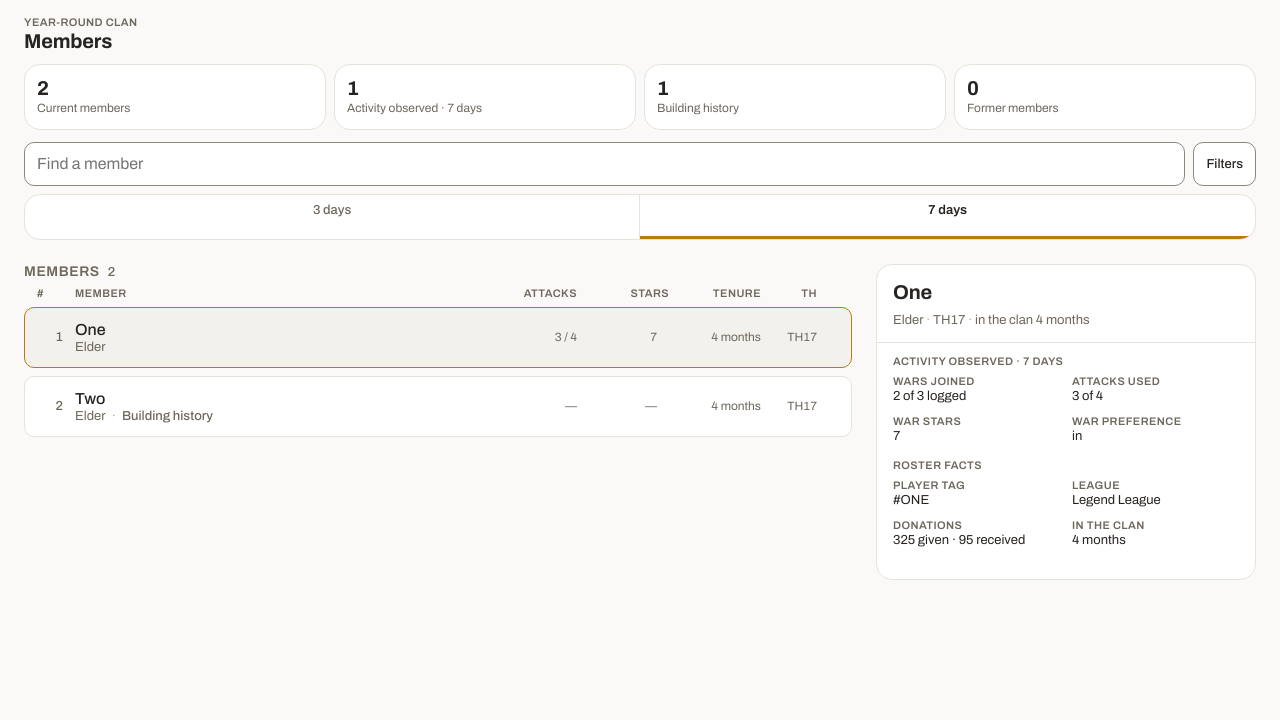
MembersPage › filters the roster by member name
The image size is (1280, 720).
expect the button "1 One Elder 3 / 4 7 4 months TH17" is shown: met, box [24,307,852,368]
Step 1. Type "Two" into the search field labelled "Find a member" → (605, 164), box [24,142,1185,186]
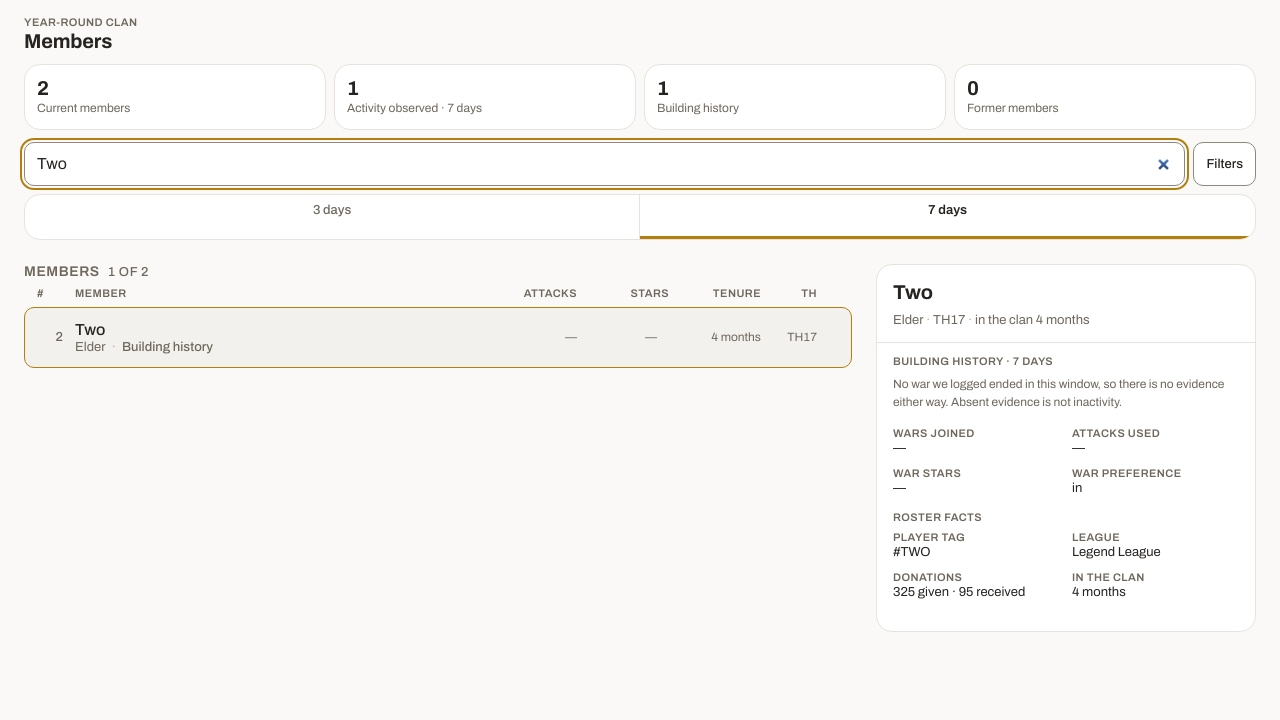
expect the button "2 Two Elder · Building history — — 4 months TH17" is shown: met, box [24,307,852,368]
expect the button "One" is gone: met
